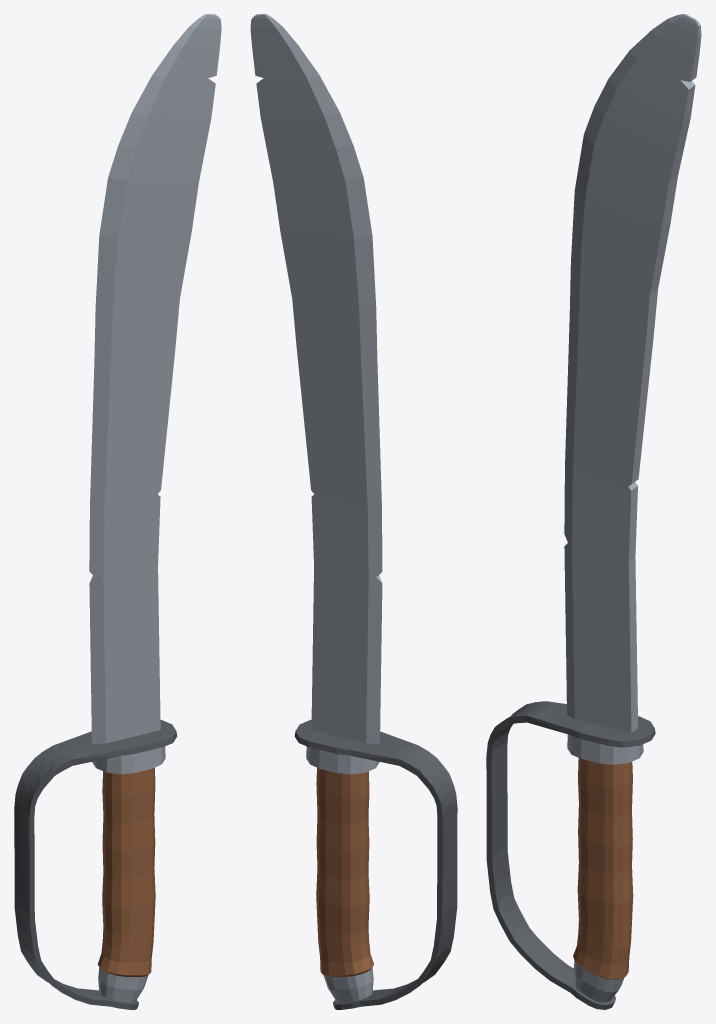
File: Cutlass.fbx
3 views of the same model, side by side, from view 1: azimuth 30°, elevation 25°; view 2: azimuth 150°, elevation 25°; view 3: azimuth 330°, elevation 25° (orthographic). The views are drawn at different scales.
Parts seen in each view (by area): view 1: Saber 1; view 2: Saber 1; view 3: Saber 1.
Boxes of the visible parts, x1,y1,x2,y2 form: Saber 1: [14, 14, 221, 1009]; Saber 1: [250, 14, 457, 1009]; Saber 1: [486, 14, 701, 1009].
Size of the model in its own units: 0.1762 by 0.8281 by 0.0483.
